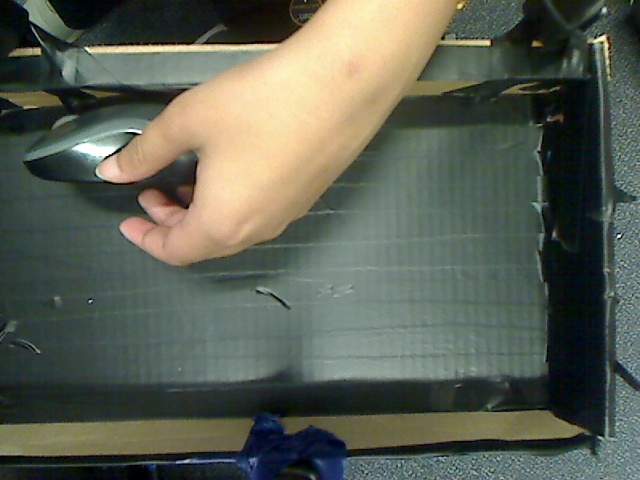mouse: (14, 107, 225, 197)
